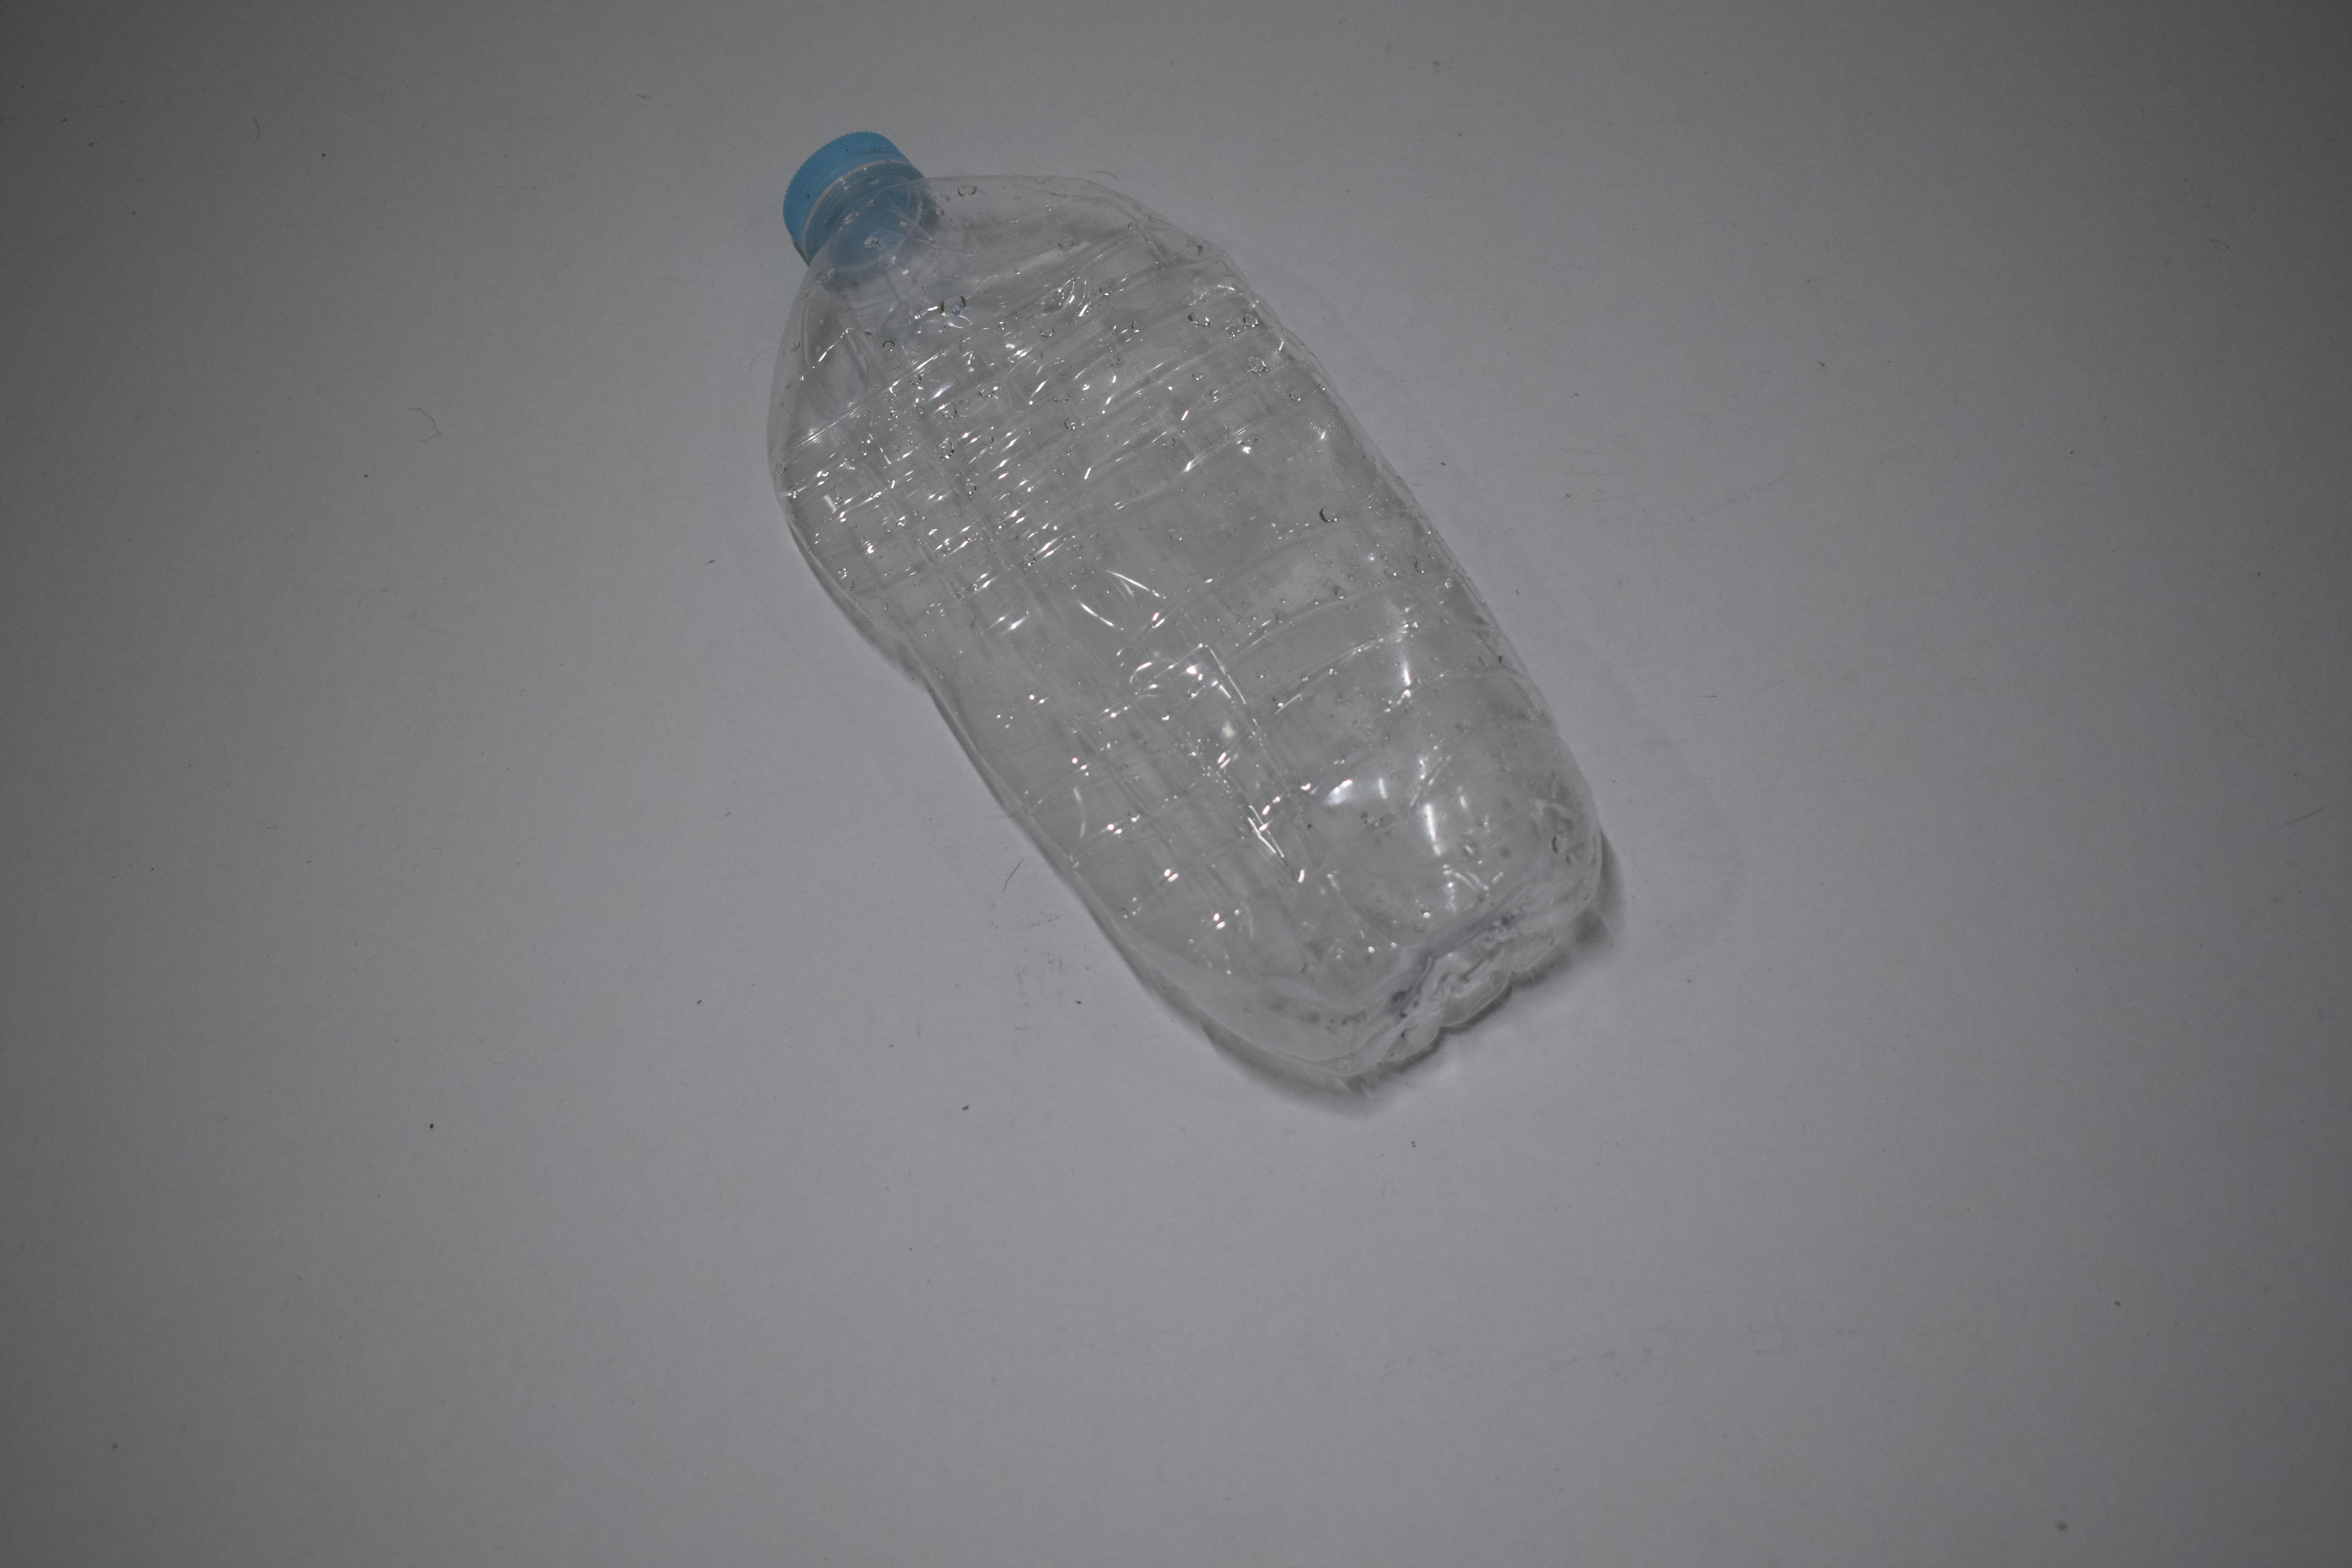bottle: (0, 128, 443, 1101)
